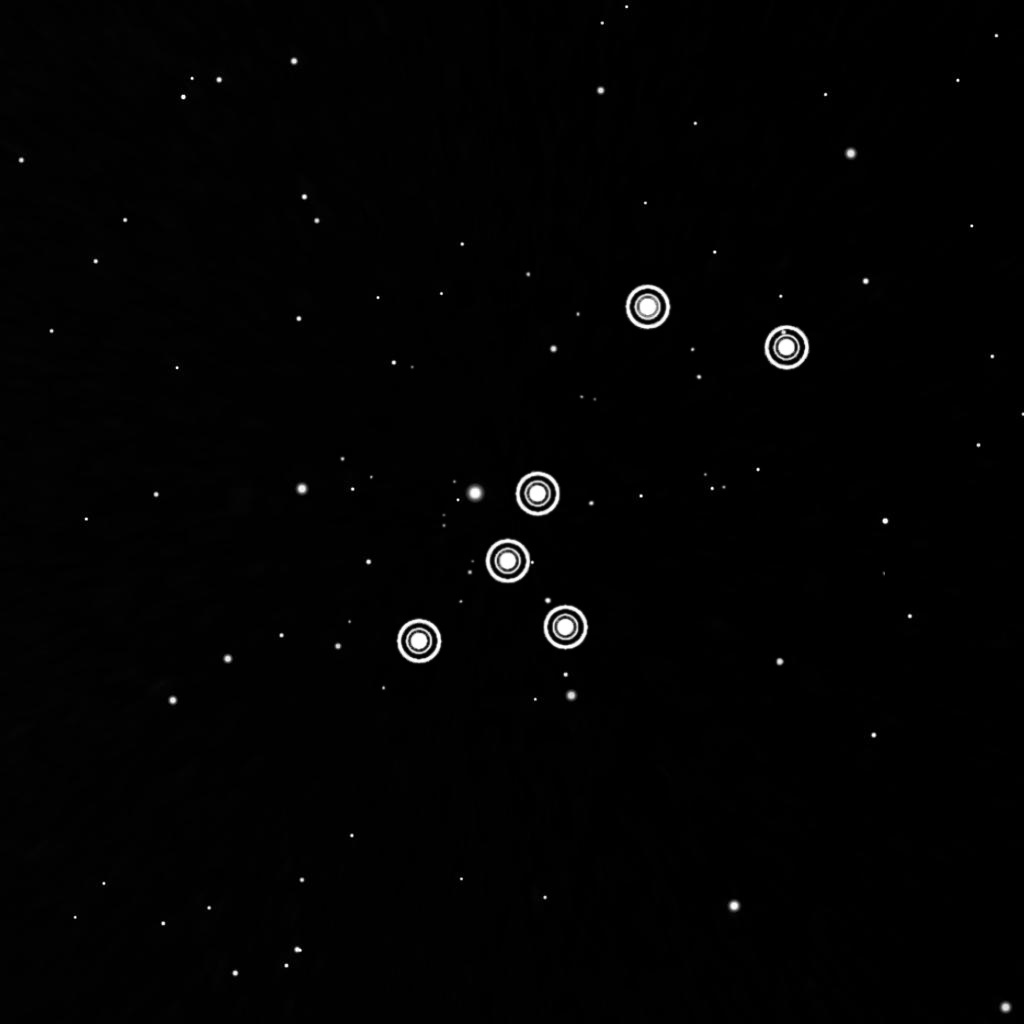canis_major: (382, 278, 818, 681)
